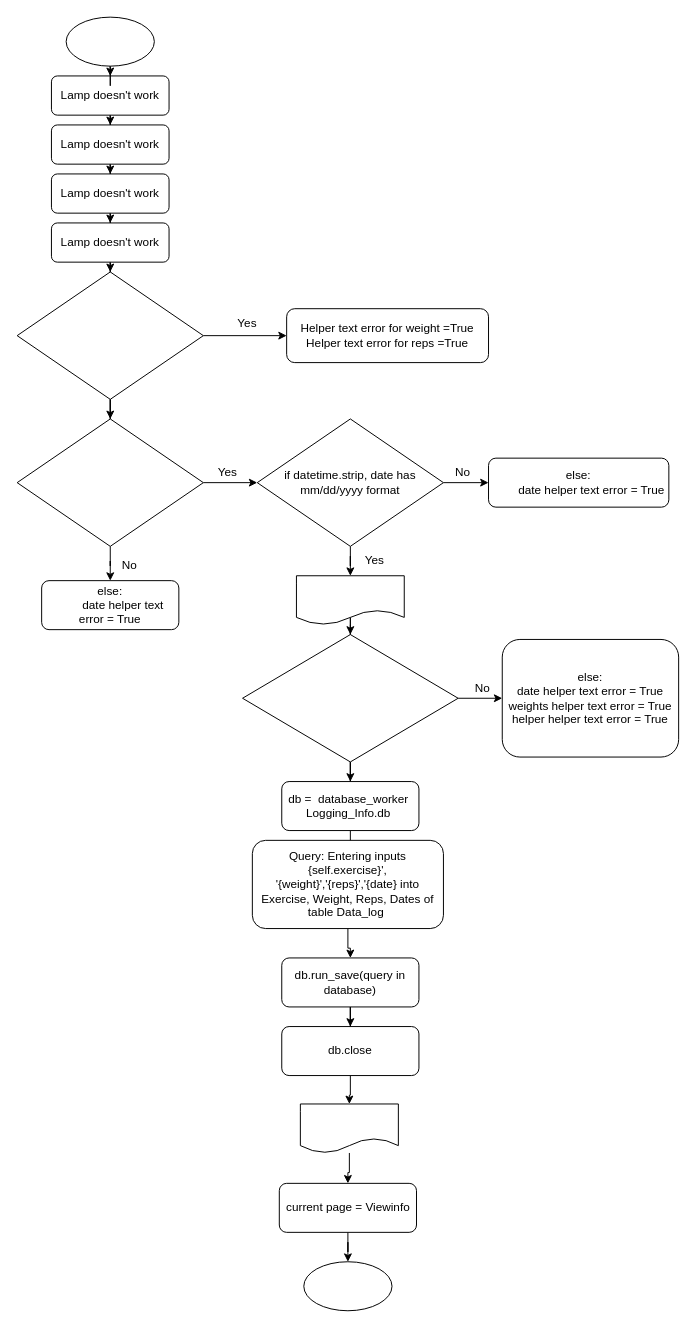
The diagram is 696 pixels wide and 1328 high, and some of its shapes have lost their labels. Here are the shapes that lost their labels. From the top down, the centre of each, then its label:
[109,41]: Start
[109,335]: If weight = to "empty str and reps = to"empty str"
[109,482]: if length of date = 10
[349,600]: Valid Date
[350,698]: if date not = "empty str" and reps not= "empty str" and weight not = "empty str"
[348,1128]: Print ("Entry Succesfull")
[347,1286]: END
